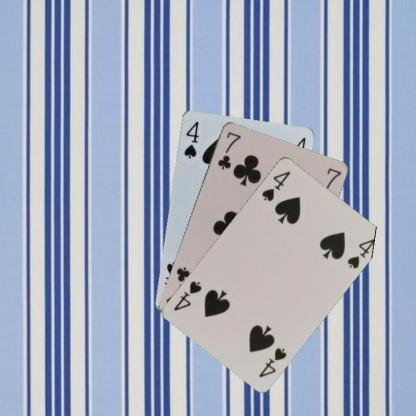4s: (259, 168, 292, 202), (256, 344, 288, 378), (181, 118, 200, 160)
7c: (215, 129, 242, 170)
